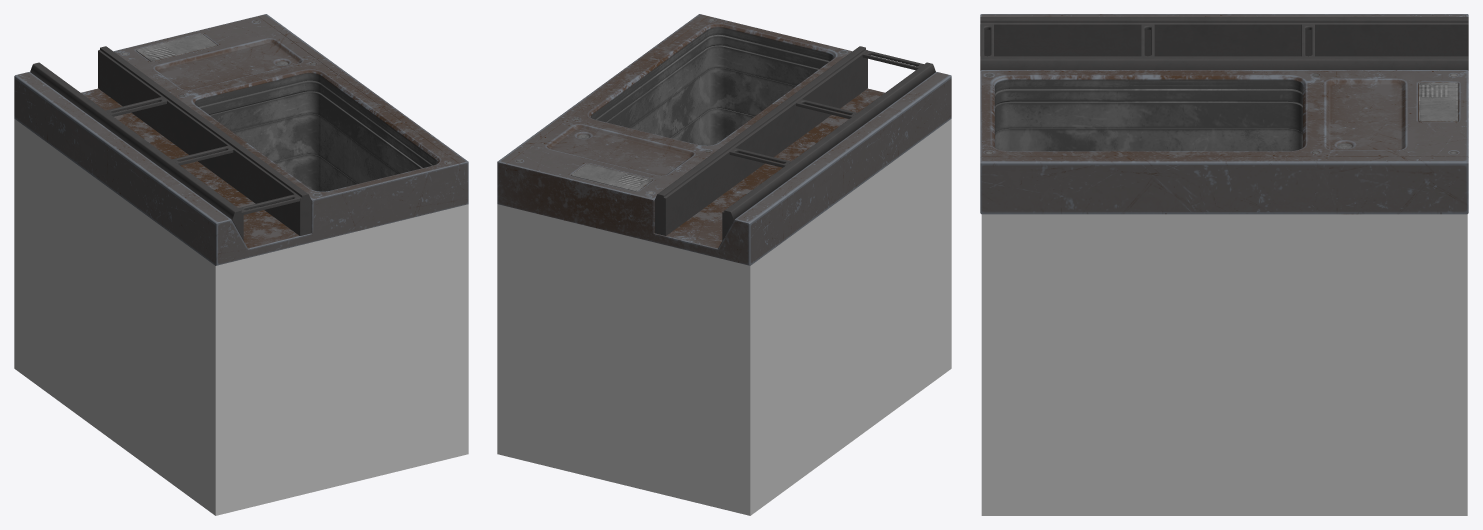
Rendered from SM_RoomStyle_Floor07.fbx.
3 views of the same model, side by side, from view 1: azimuth 30°, elevation 25°; view 2: azimuth 150°, elevation 25°; view 3: azimuth 270°, elevation 25° (orthographic). The views are drawn at different scales.
Visible parts, largest first — view 1: SM_RoomStyle_Floor07_LOD0; view 2: SM_RoomStyle_Floor07_LOD0; view 3: SM_RoomStyle_Floor07_LOD0.
Part boxes in pixels (box(x1,y1,x2,y2)): SM_RoomStyle_Floor07_LOD0: box(14, 14, 468, 515); SM_RoomStyle_Floor07_LOD0: box(497, 14, 951, 515); SM_RoomStyle_Floor07_LOD0: box(980, 14, 1468, 515).
Bounding box in the file's own units: 260 × 360 × 294.
Materials: 2 (1 with a texture image).
